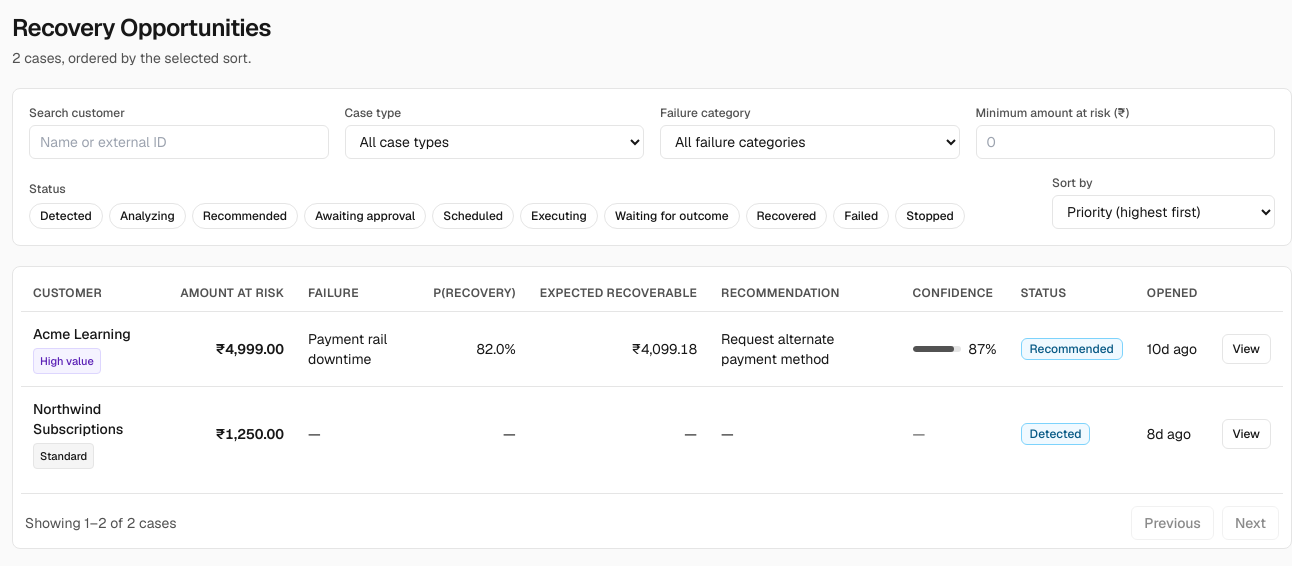
Test: RecoveryClient › keeps user filters after an error
The width and height of the screenshot is (1292, 566).
Type "Acme" into the search field labelled "Search customer" at point(179, 142), box [29,125,328,159]
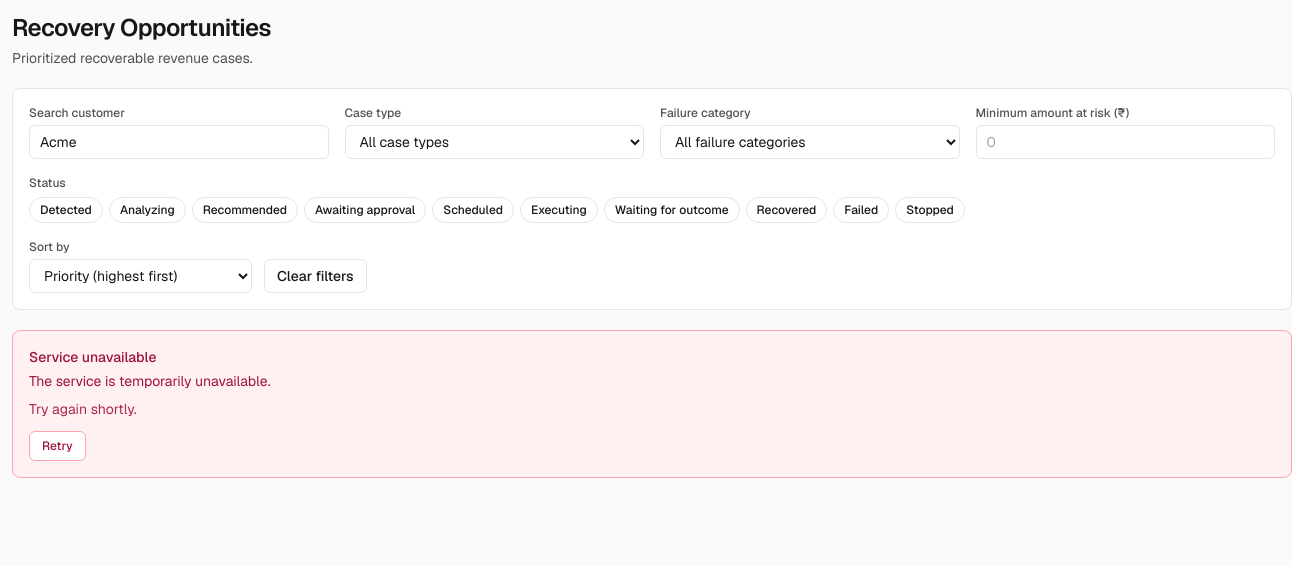
Expected: the message is shown, [12,330,1291,478]
